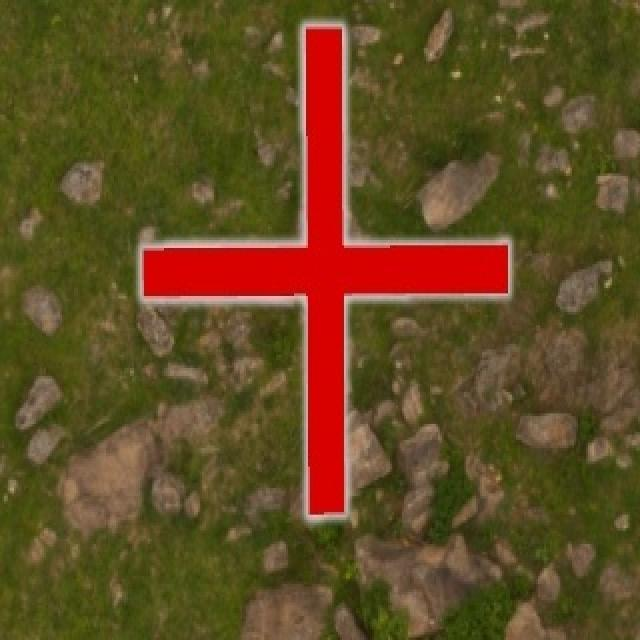x_marker: (141, 25, 507, 516)
